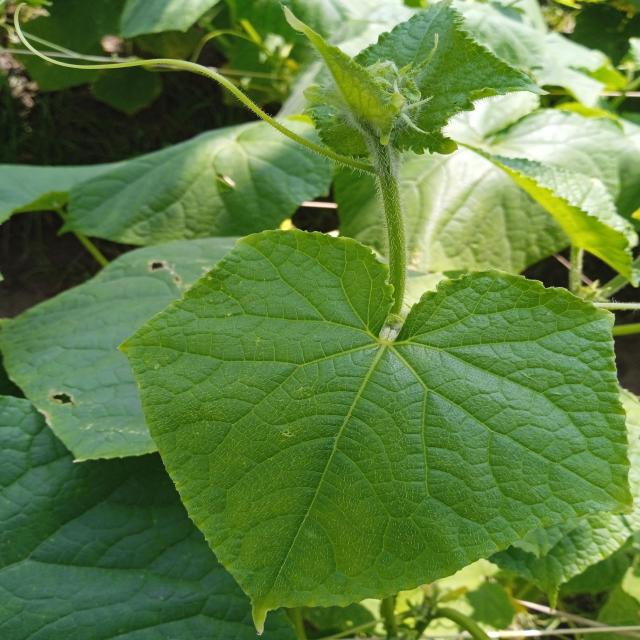cucumber_healthy: (118, 220, 637, 636), (0, 391, 299, 639), (0, 225, 239, 466), (0, 114, 350, 240), (298, 9, 546, 167)
